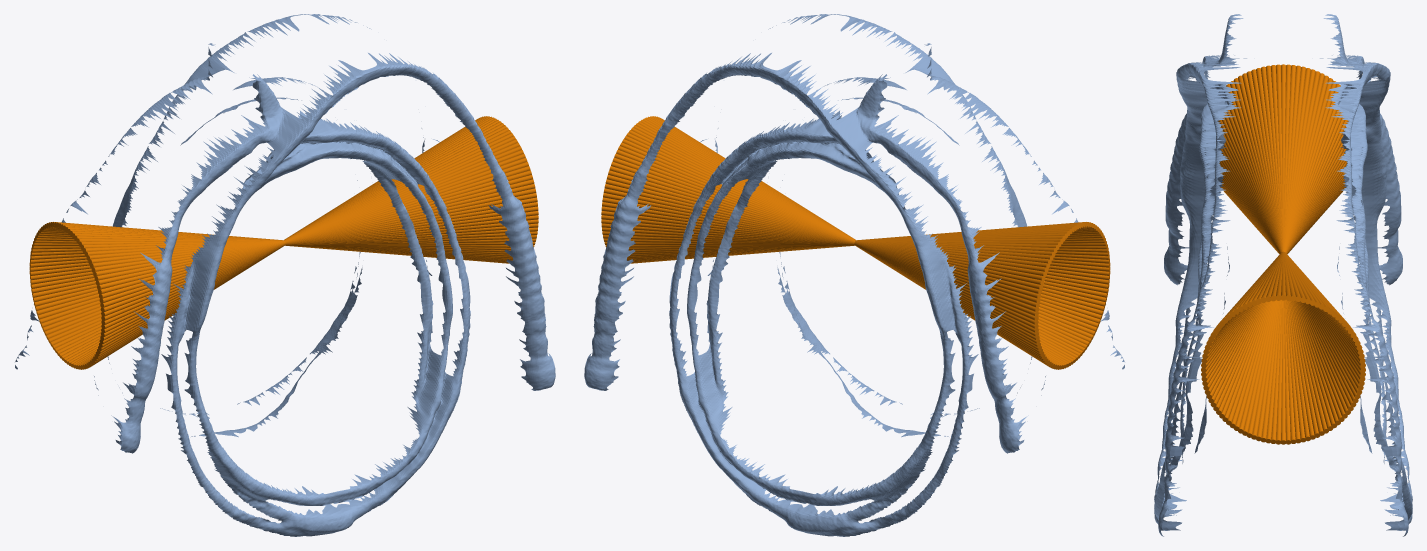
File: A20024978_5995-37-531-2344_DigitalTwin.glb
The picture shows the model from 3 angles, left to right: view 1: azimuth 30°, elevation 25°; view 2: azimuth 150°, elevation 25°; view 3: azimuth 270°, elevation 25°; orthographic projection. The views are drawn at different scales.
Parts seen in each view (by area): view 1: world; view 2: world; view 3: world.
Boxes of the visible parts, x1,y1,x2,y2 form: world: (15,14,555,536); world: (584,14,1124,536); world: (1154,14,1412,536).
Size of the model in its own units: 372 by 360 by 175.
